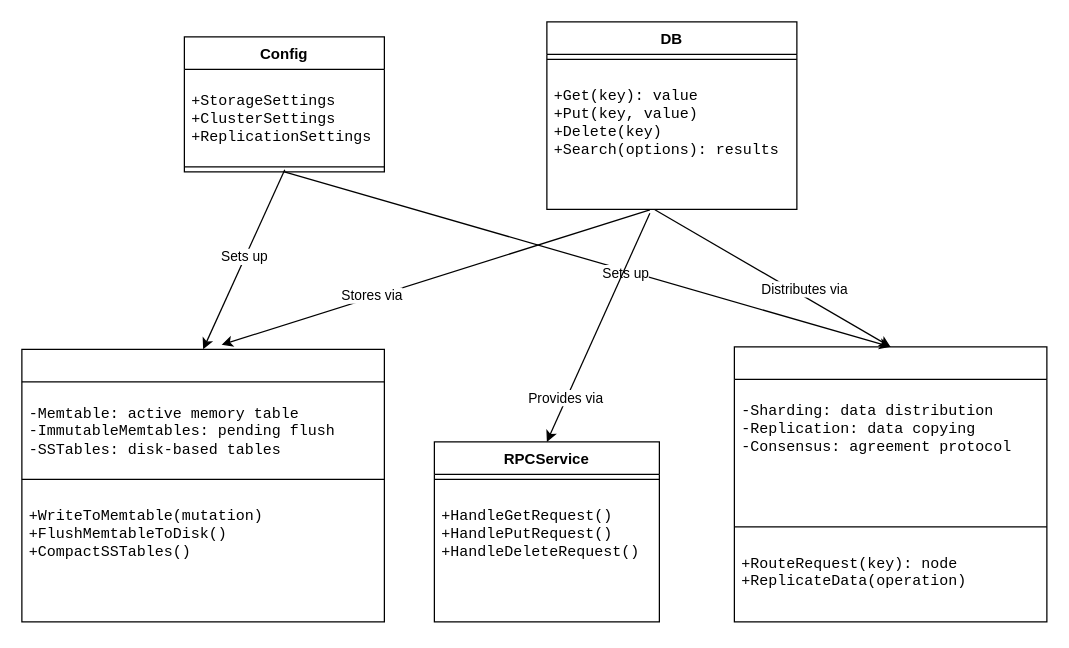
The diagram is 1069 pixels wide and 648 high, and some of its shapes have lost their labels. The shapes that lost their labels are listed below. From the top down, each one's box as (x1, y1, x2, y2) in pixels, then its label:
(21, 348, 384, 622): StorageEngine
(733, 346, 1047, 622): DistributedLayer
